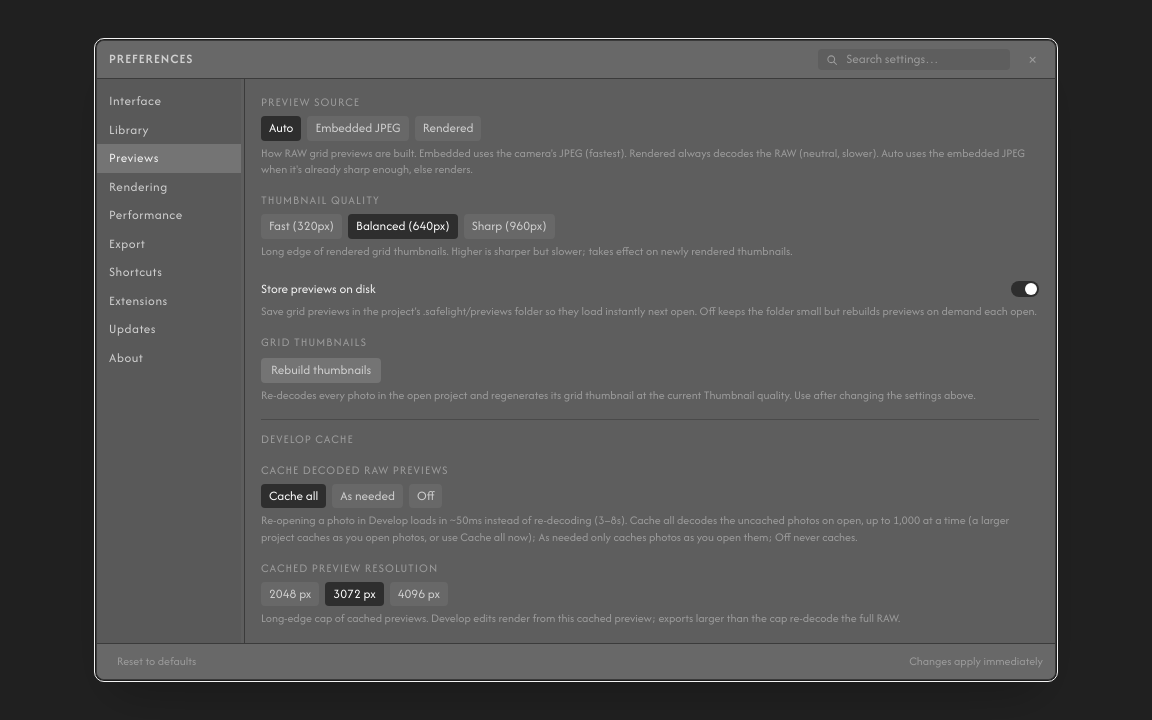
Scenario: Preferences ▸ Previews, across a project switch › still says how many it rebuilt when nothing stopped it, even after a later close
Click the button "Rebuild thumbnails": x=321, y=370 [261,358,381,382]
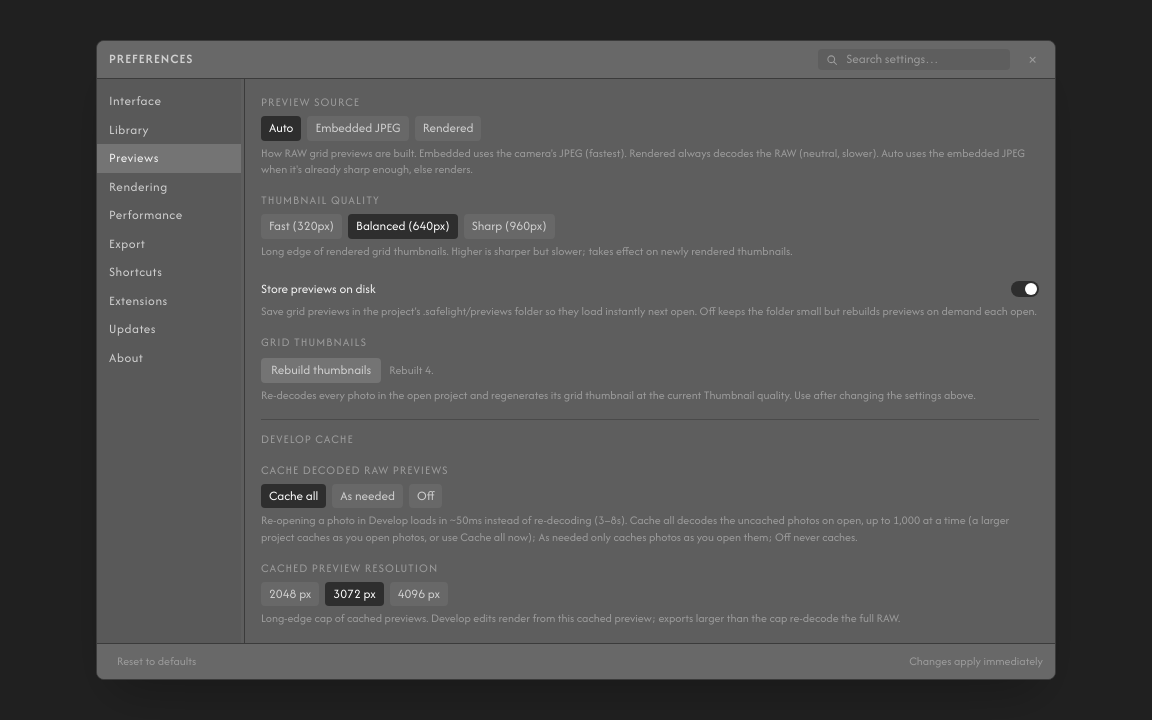
Now the text "Rebuilt 4." is shown, box [389,362,434,378]
